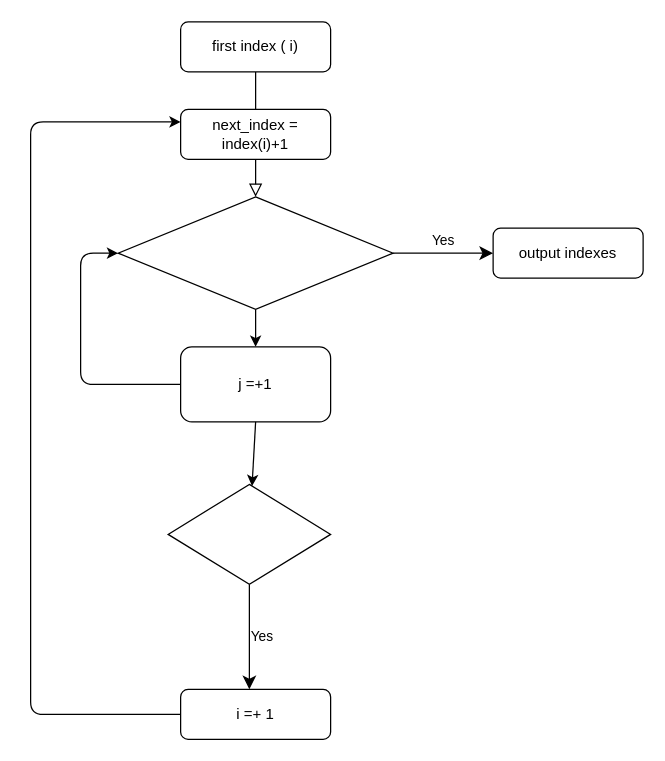
Some shapes in this 665 by 761 pixel diagram are drawn without their labels. Here are the shapes that lost their labels. From the top down, the centre of each, then its label:
At [255,252]: "i + j = = target".
At [249,533]: "j end?".
